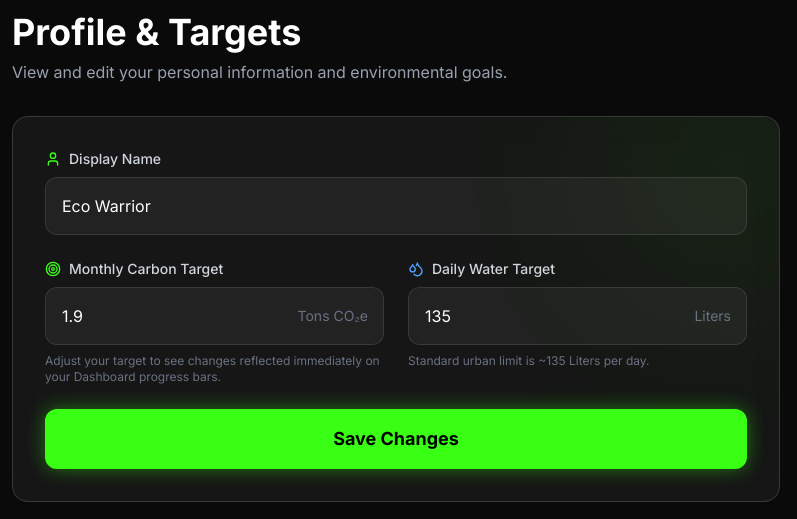
Test: Profile Page › Form interactions › updates profile context when form is saved
Replace the text in the field showing "Eco Warrior" with "Carbon Hero": (396, 206) [45,177,747,235]
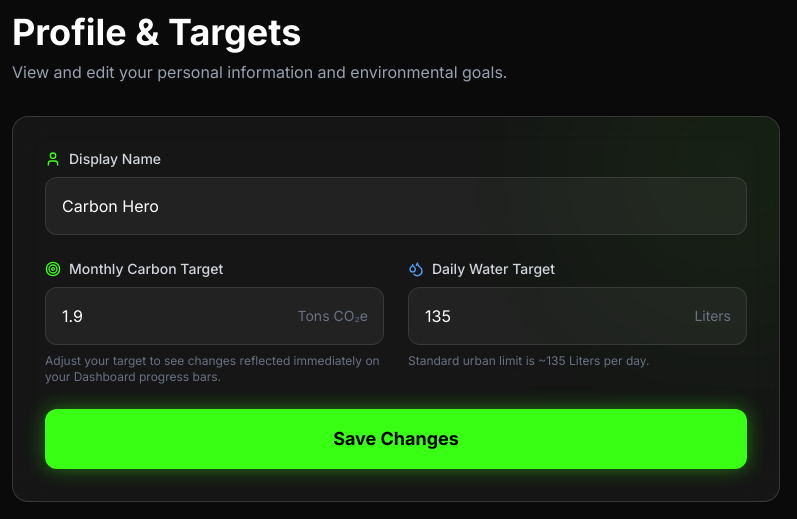
Submit the form named "Save Changes", box [45,149,747,469]
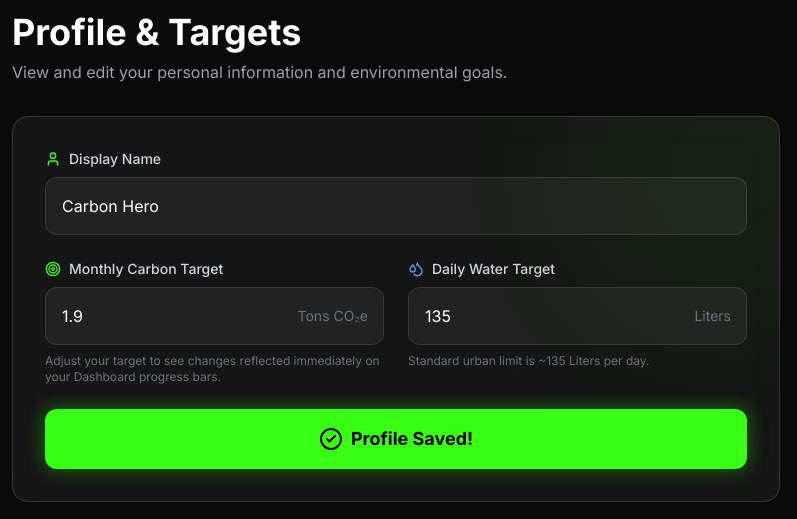
Expected: the button "Profile Saved!" is shown, [45,409,747,469]
